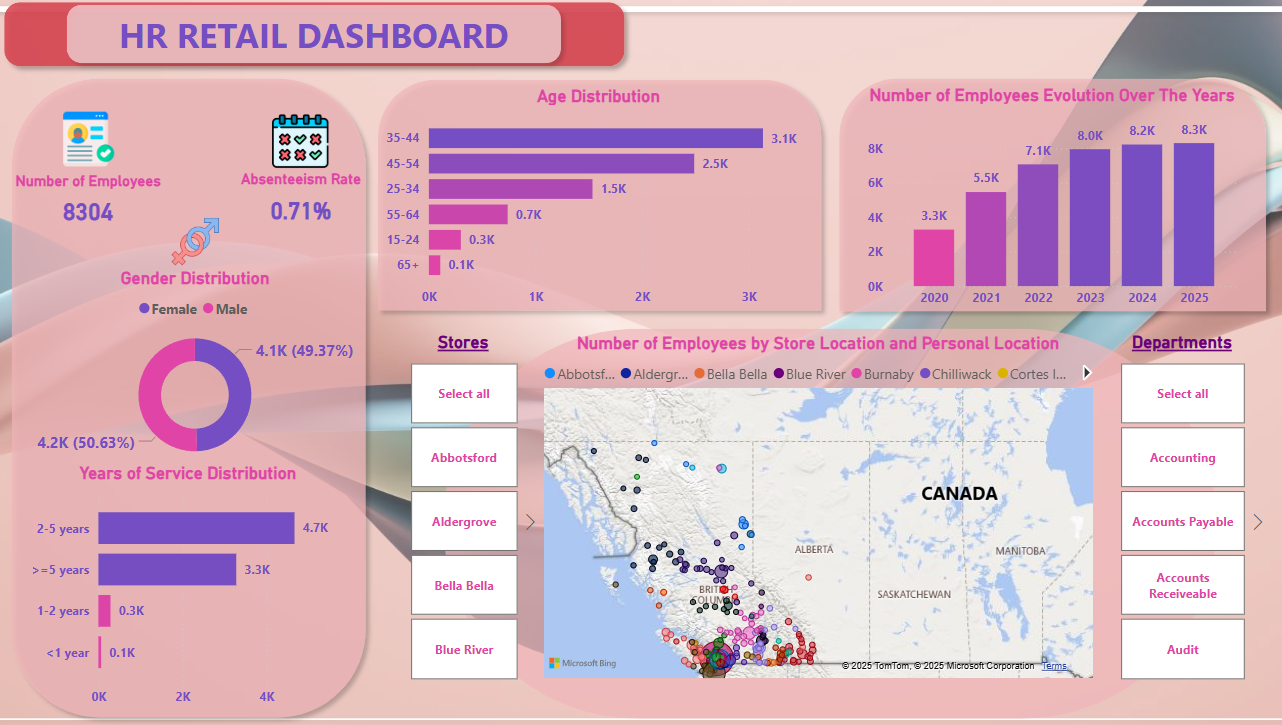

The page's visual inventory and layout, read from the dashboard file:
{"tool":"powerbi","page":{"name":"Hr Retail Dashboard","canvas":[1280,720],"ordinal":0},"visuals":[{"type":"group","id":"g1","title":"Group 4","box":[429.4,319.5,775.3,399.9],"z":0},{"type":"shape","box":[429.4,319.5,775.3,399.9],"z":500,"group":"g1"},{"type":"shape","box":[0,0,624.9,80.7],"z":1000,"group":"g2"},{"type":"shape","box":[7.3,74.6,364.4,643.2],"z":1000},{"type":"group","id":"g2","title":"Group 1","box":[0,0,624.9,80.7],"z":2000},{"type":"shape","box":[61.7,2.8,501.6,75.1],"z":2000,"group":"g2"},{"type":"shape","box":[365.5,75.4,451.7,243.7],"z":3000},{"type":"card","title":"Number of Employees","fields":{"Values":["Count(MFGEmployees4_cleaned.EmployeeNumber)"]},"box":[0,174.3,182.2,61.1],"z":3000,"group":"g3"},{"type":"shape","box":[817.2,74.2,435.6,245.7],"z":4000},{"type":"donutChart","title":"Gender Distribution","fields":{"Series":["MFGEmployees4_cleaned.Gender Standard"],"Y":["Count(MFGEmployees4_cleaned.EmployeeNumber)"]},"box":[2.3,269.4,386.6,199.5],"z":5000},{"type":"slicer","title":"Stores","fields":{"Values":["MFGEmployees4_cleaned.StoreLocation"]},"box":[384,328.9,148,346.1],"z":6000},{"type":"clusteredBarChart","title":"Years of Service Distribution","fields":{"Category":["MFGEmployees4_cleaned.Tenure Category"],"Y":["Count(MFGEmployees4_cleaned.EmployeeNumber)"]},"box":[29.5,460.3,318.8,247.4],"z":7000},{"type":"clusteredBarChart","title":"Age Distribution","fields":{"Category":["MFGEmployees4_cleaned.Age Group"],"Y":["Count(MFGEmployees4_cleaned.EmployeeNumber)"]},"box":[377.1,90.3,427.4,225.1],"z":8000},{"type":"slicer","title":"Departments","fields":{"Values":["MFGEmployees4_cleaned.DepartmentName"]},"box":[1078.5,328.9,165.1,346.1],"z":9000},{"type":"clusteredColumnChart","title":"Number of Employees Evolution Over The Years","fields":{"Category":["MFGEmployees4_cleaned.Year"],"Y":["CountNonNull(MFGEmployees4_cleaned.PresenceStatus)"]},"box":[848.7,89,370.8,227.7],"z":10000},{"type":"card","title":"Absenteeism Rate","fields":{"Values":["Avg(MFGEmployees4_cleaned.Absenteeism Rate)"]},"box":[229.2,173.7,141.3,60.4],"z":10000,"group":"g4"},{"type":"group","id":"g3","title":"Group 2","box":[0,110.7,182.2,124.7],"z":11000},{"type":"image","box":[44,110.7,95.4,63.6],"z":11001,"group":"g3"},{"type":"image","box":[247.5,112,103.9,64.8],"z":11002,"group":"g4"},{"type":"group","id":"g4","title":"Group 3","box":[229.2,112,141.3,122.1],"z":12000},{"type":"map","title":"Number of Employees by Store Location and Personal Location","fields":{"Category":["MFGEmployees4_cleaned.FULL Location"],"Size":["Count(MFGEmployees4_cleaned.EmployeeNumber)"],"Series":["MFGEmployees4_cleaned.StoreLocation"]},"box":[531.9,332.6,546.6,342.4],"z":13000},{"type":"image","box":[143.8,214.2,103.9,58.7],"z":14000}]}

Visuals, with their boxes in screenshot pixels (x1, y1, x2, y2), scaled from the page's 1280x720 canvas onto the 1282x725 screenshot:
"Group 4" group: rect(430, 322, 1207, 724)
shape: rect(430, 322, 1207, 724)
shape: rect(0, 0, 626, 81)
shape: rect(7, 75, 372, 723)
"Group 1" group: rect(0, 0, 626, 81)
shape: rect(62, 3, 564, 78)
shape: rect(366, 76, 818, 321)
"Number of Employees" card: rect(0, 176, 182, 237)
shape: rect(818, 75, 1255, 322)
"Gender Distribution" donutChart: rect(2, 271, 390, 472)
"Stores" slicer: rect(385, 331, 533, 680)
"Years of Service Distribution" clusteredBarChart: rect(30, 463, 349, 713)
"Age Distribution" clusteredBarChart: rect(378, 91, 806, 318)
"Departments" slicer: rect(1080, 331, 1246, 680)
"Number of Employees Evolution Over The Years" clusteredColumnChart: rect(850, 90, 1221, 319)
"Absenteeism Rate" card: rect(230, 175, 371, 236)
"Group 2" group: rect(0, 111, 182, 237)
image: rect(44, 111, 140, 176)
image: rect(248, 113, 352, 178)
"Group 3" group: rect(230, 113, 371, 236)
"Number of Employees by Store Location and Personal Location" map: rect(533, 335, 1080, 680)
image: rect(144, 216, 248, 275)
